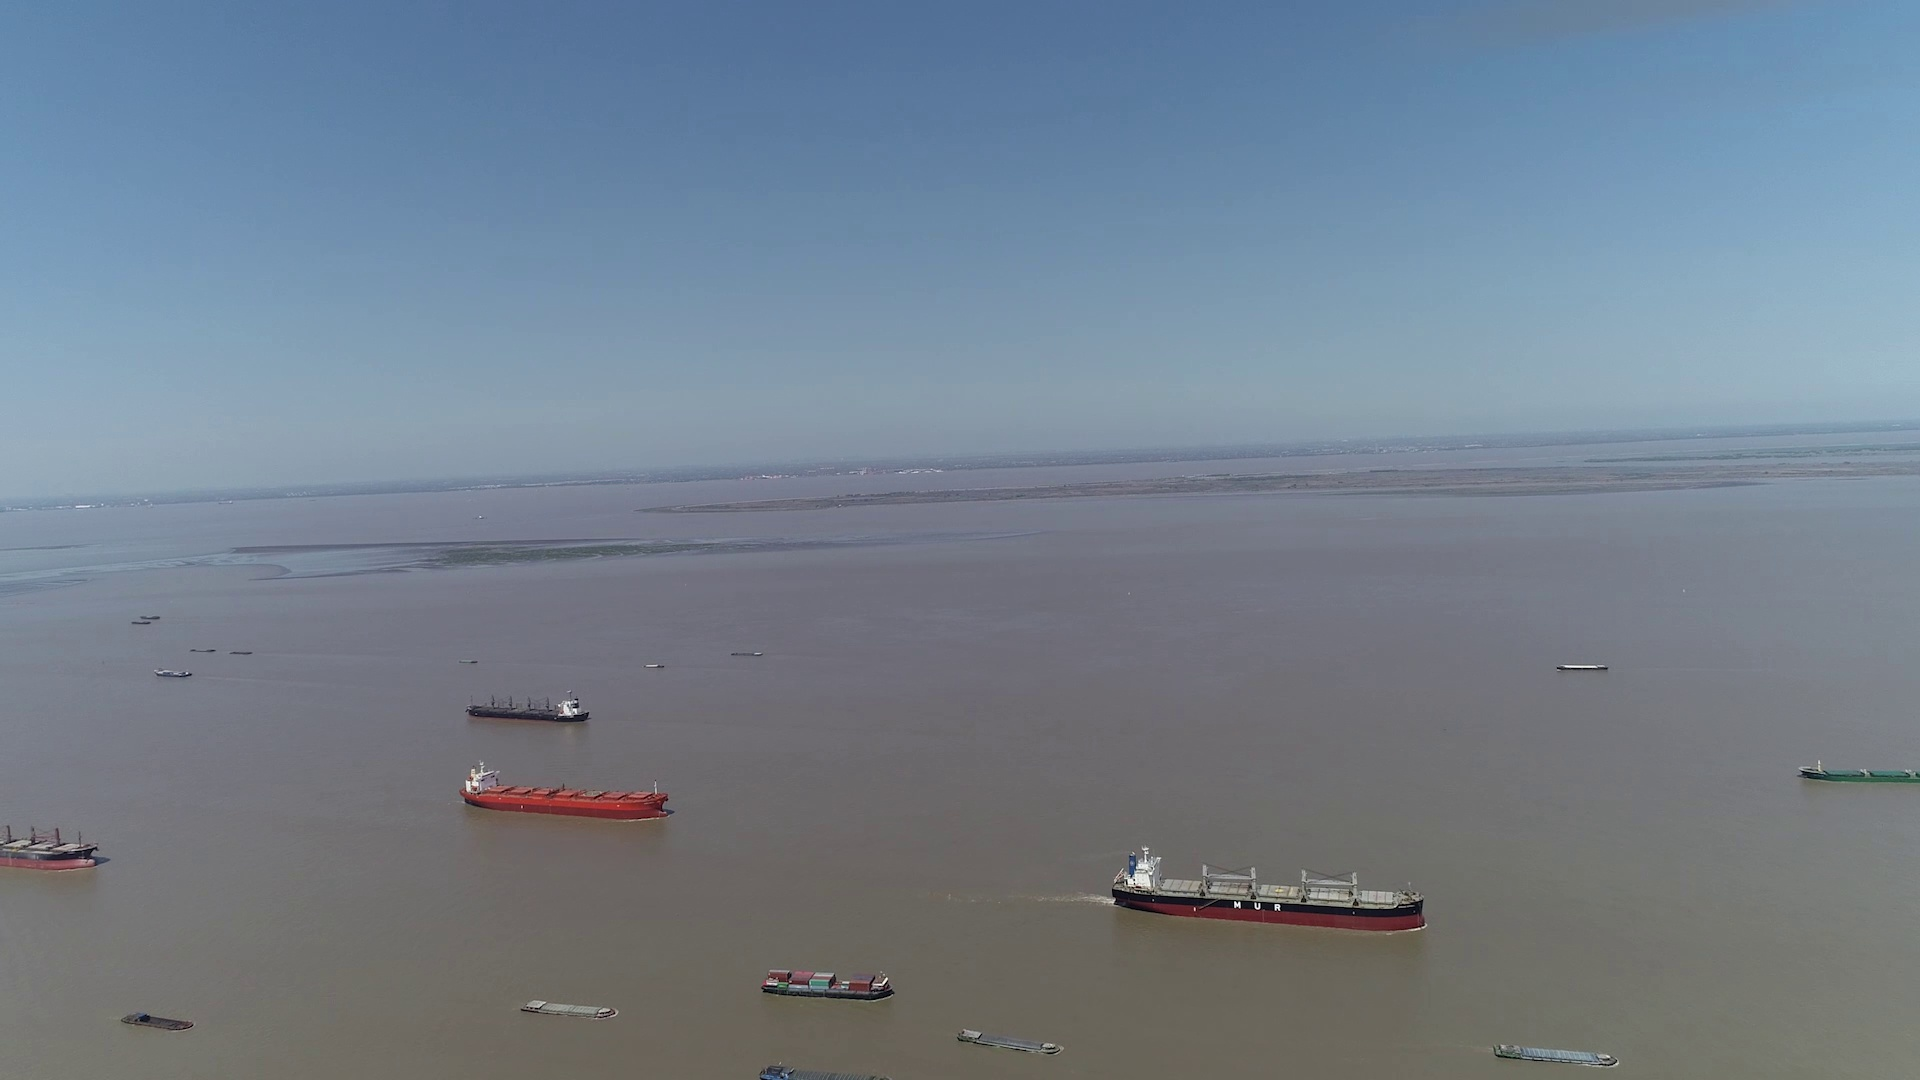ship: (1110, 845, 1425, 932), (459, 758, 669, 819), (0, 812, 102, 873), (760, 967, 895, 1000), (465, 691, 591, 723), (1491, 1042, 1619, 1069), (953, 1029, 1065, 1056), (1797, 760, 1920, 785), (766, 1062, 886, 1080), (522, 998, 617, 1019), (121, 1011, 195, 1030), (1556, 665, 1609, 673), (156, 667, 190, 676)
